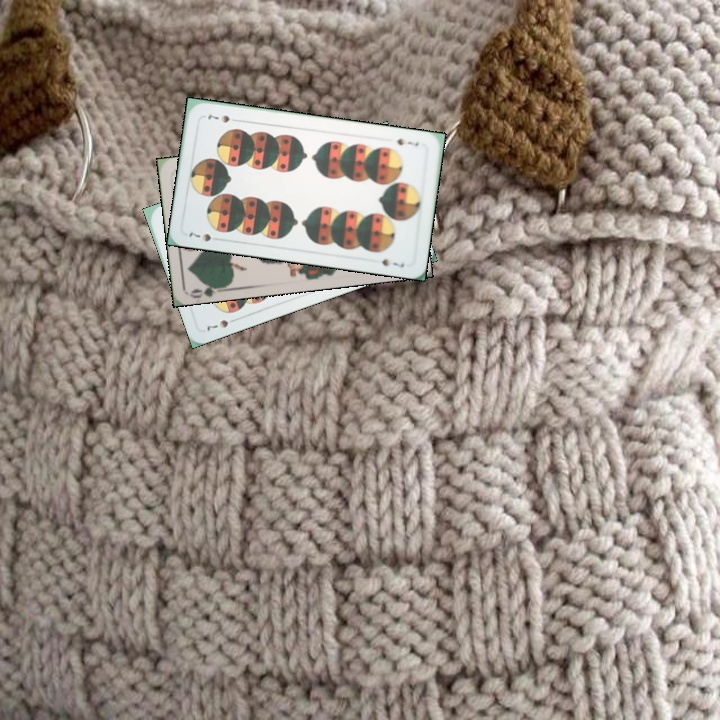GO: (187, 278, 228, 300)
S7: (202, 316, 231, 333), (185, 228, 214, 244), (393, 134, 422, 149)
